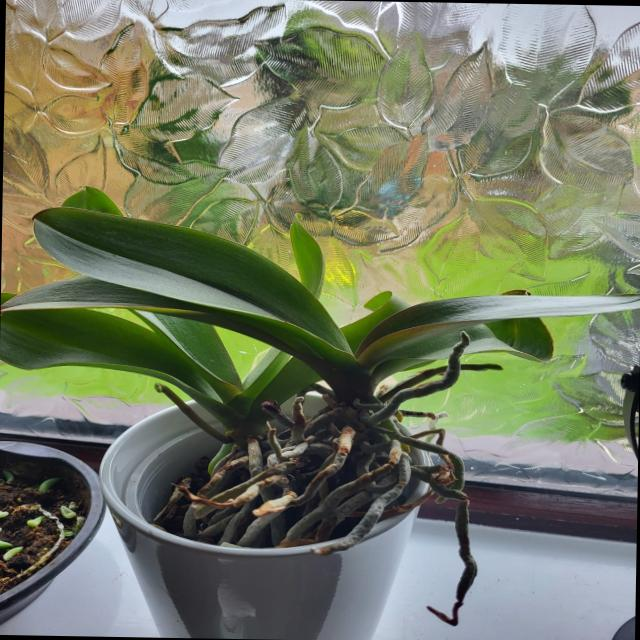leaf: (36, 205, 346, 350), (0, 306, 224, 400), (359, 291, 627, 366), (243, 352, 288, 403), (608, 615, 634, 640)
pot: (91, 399, 474, 640), (0, 428, 115, 635)
